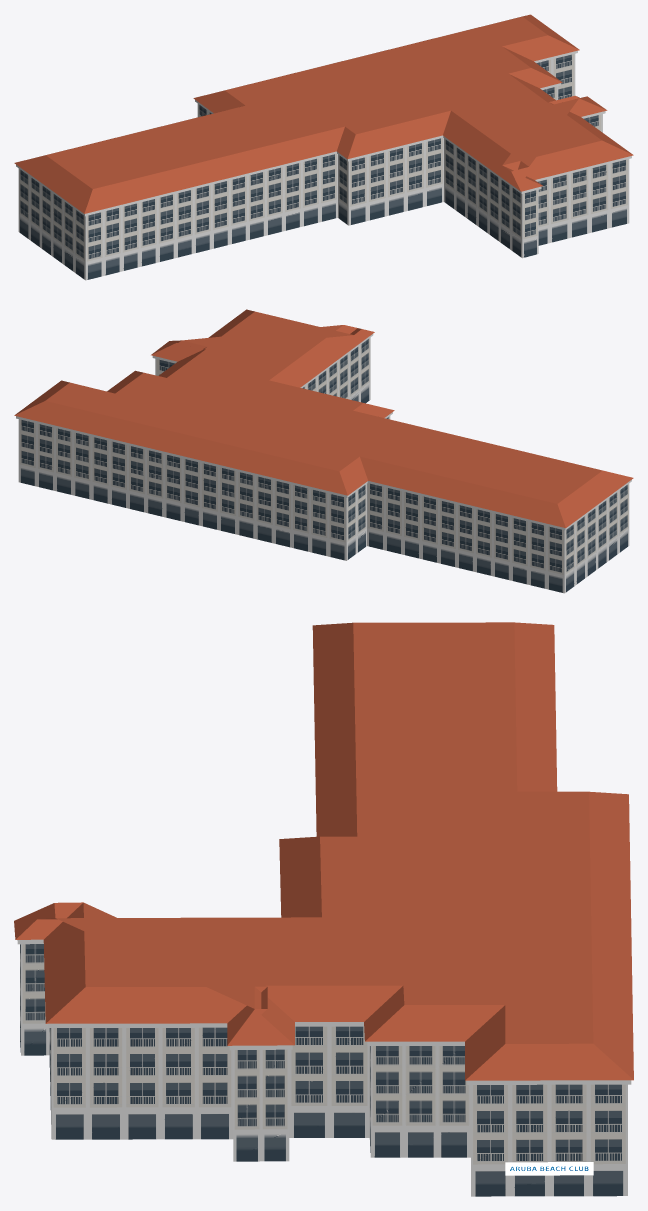
File: arubabeachclub.glb
The picture shows the model from 3 angles, top to bottom: view 1: azimuth 30°, elevation 25°; view 2: azimuth 150°, elevation 25°; view 3: azimuth 270°, elevation 25°; orthographic projection. The views are drawn at different scales.
Visible parts, largest first — view 1: arubabeachclub_lod0; view 2: arubabeachclub_lod0; view 3: arubabeachclub_lod0.
Part boxes in pixels (x1=…): arubabeachclub_lod0: x1=14, y1=14, x2=633, y2=280; arubabeachclub_lod0: x1=14, y1=309, x2=633, y2=593; arubabeachclub_lod0: x1=14, y1=622, x2=633, y2=1196.
Size of what is drawn, in the model's own units: 110 by 15.5 by 63.13.
5 materials, 3 textured.
